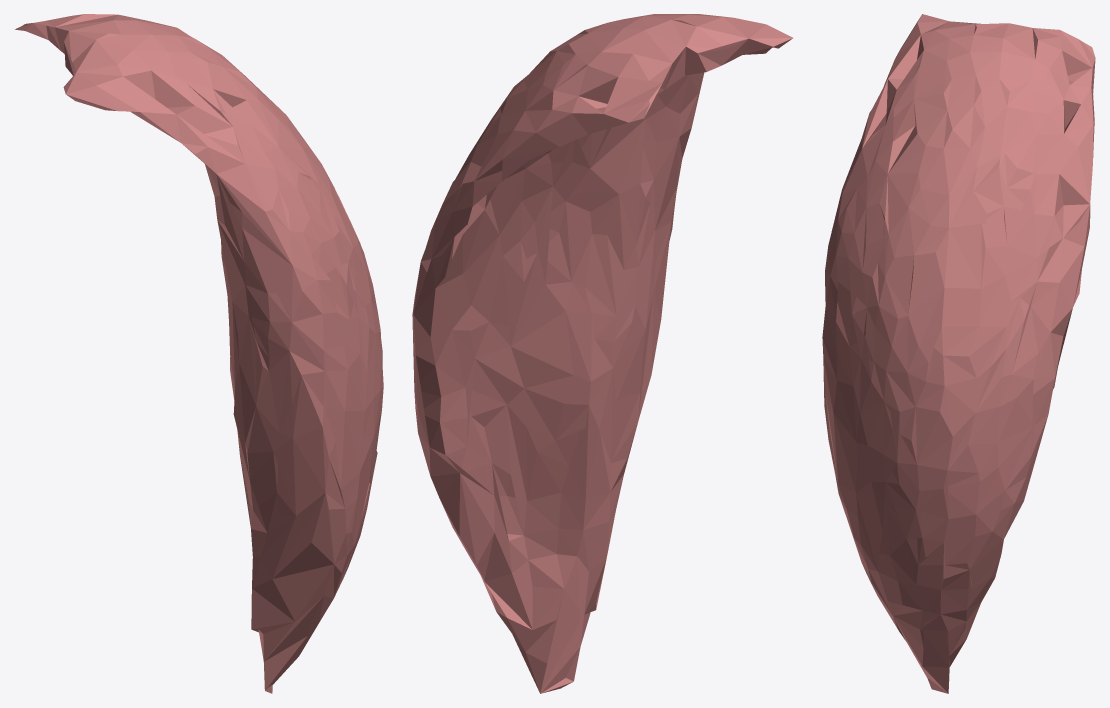
The model's file is Acromial_part_of_deltoid_muscle.l.glb.
The picture shows the model from 3 angles, left to right: view 1: azimuth 30°, elevation 25°; view 2: azimuth 150°, elevation 25°; view 3: azimuth 270°, elevation 25°; orthographic projection. The views are drawn at different scales.
Parts seen in each view (by area): view 1: Acromial_part_of_deltoid_muscle.l; view 2: Acromial_part_of_deltoid_muscle.l; view 3: Acromial_part_of_deltoid_muscle.l.
Part boxes in pixels (x1,y1,x2,y2): Acromial_part_of_deltoid_muscle.l: [15, 14, 383, 693]; Acromial_part_of_deltoid_muscle.l: [412, 14, 792, 693]; Acromial_part_of_deltoid_muscle.l: [822, 14, 1095, 693].
Size of the model in its own units: 0.0726 by 0.1455 by 0.0598.
